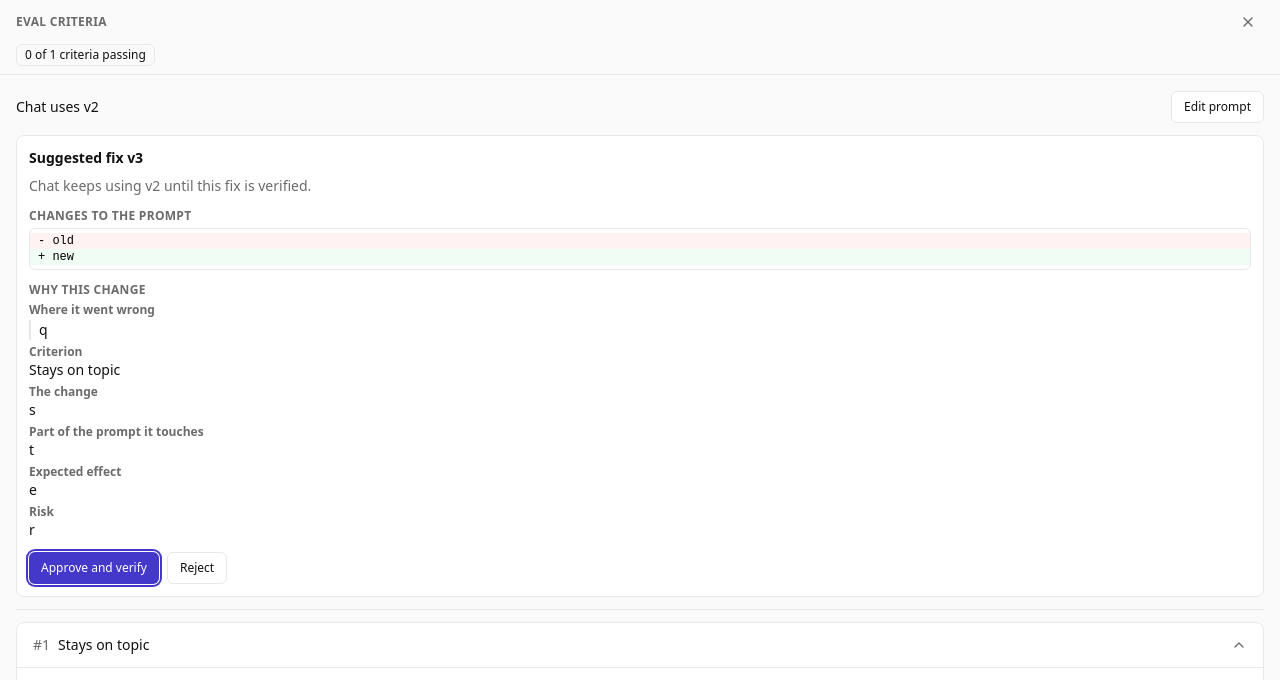
EvalCriteriaPanel change review › focus › moves focus to the new state's heading after the user's Approve settles
Click the button "Approve and verify": (94, 568) [29,552,159,584]
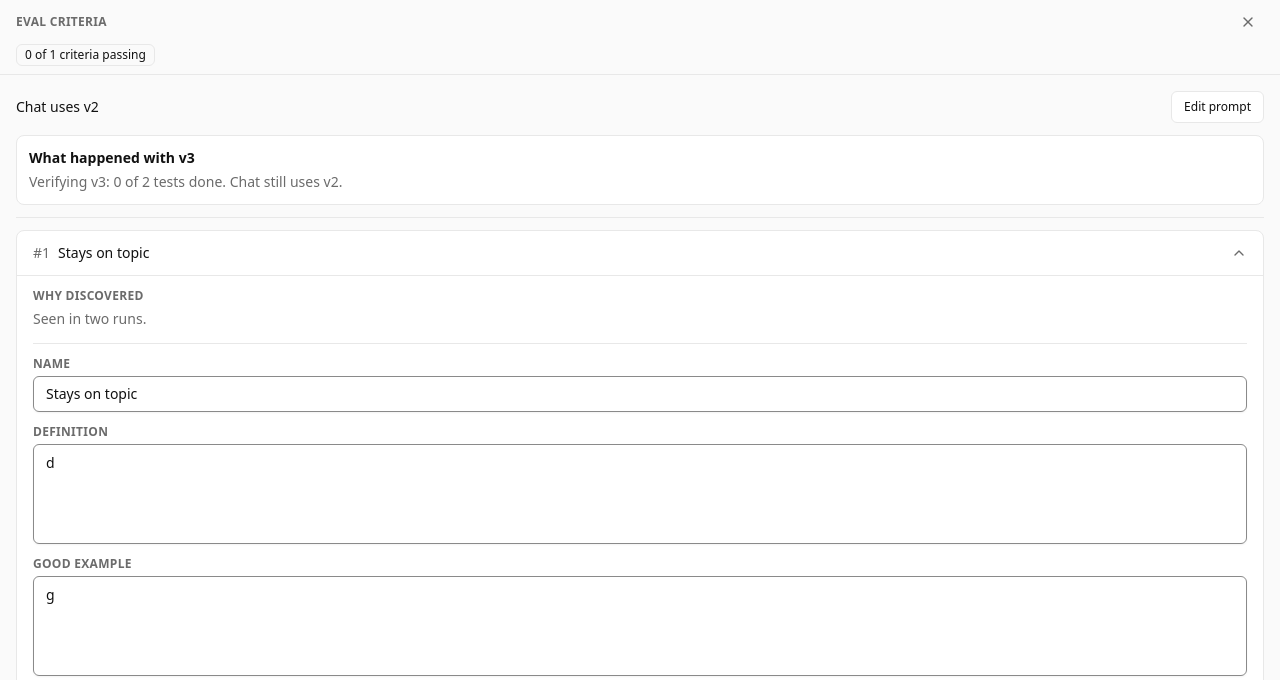
Now the heading "What happened with v3" is shown, box [29,148,195,167]
